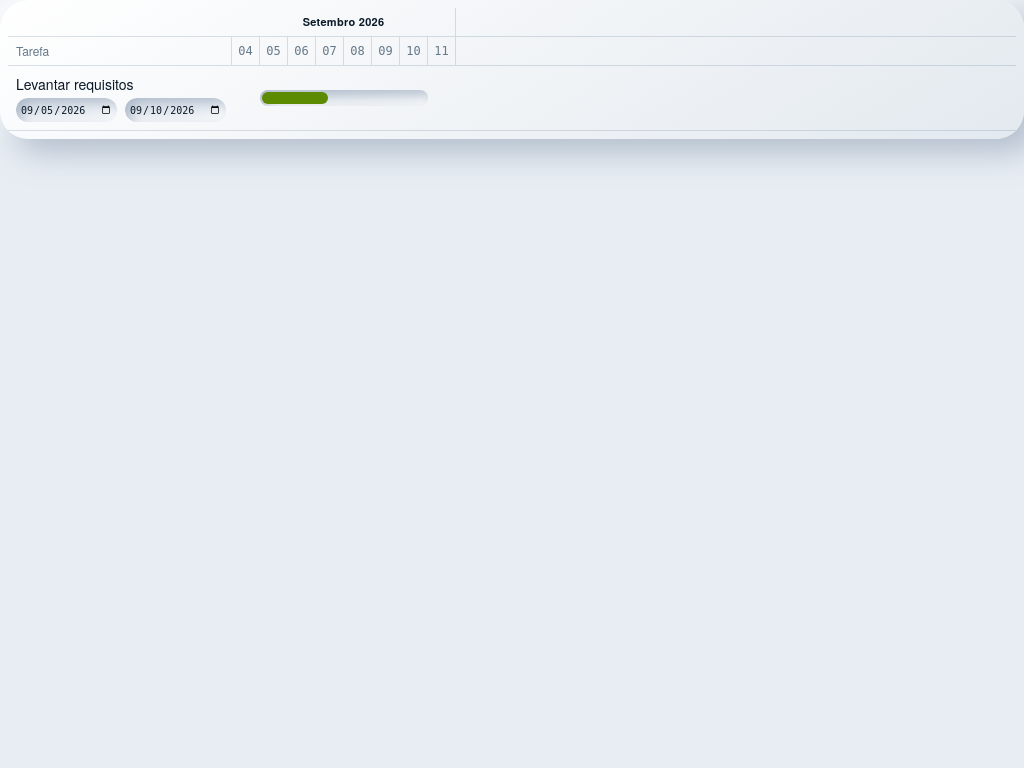
Test: GanttChart › opens a detail dialog with the task's info when its bar is clicked
This screenshot has width=1024, height=768.
Click the button named "ver detalhes de levantar requisitos" at (344, 98), box top-left (260, 90), bottom-right (428, 106)
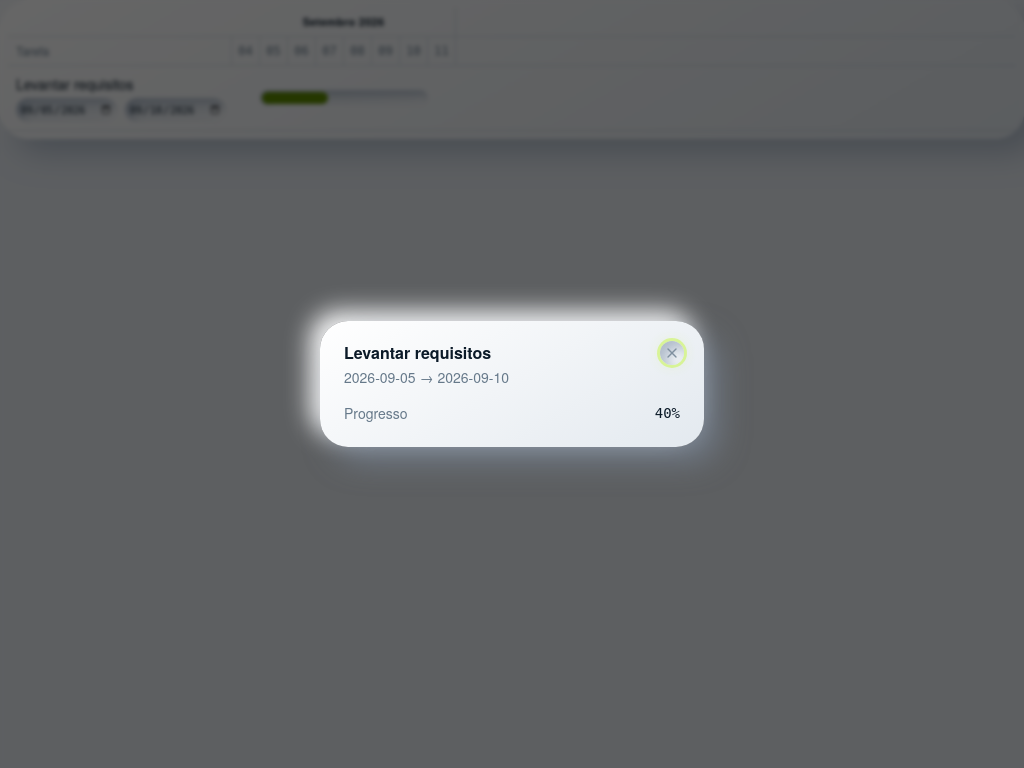
Expected: the dialog is shown, top-left (320, 321), bottom-right (704, 447)
Expected: the heading "Levantar requisitos" is shown, top-left (344, 341), bottom-right (491, 364)
Expected: the text "40%" is shown, top-left (655, 403), bottom-right (680, 423)
